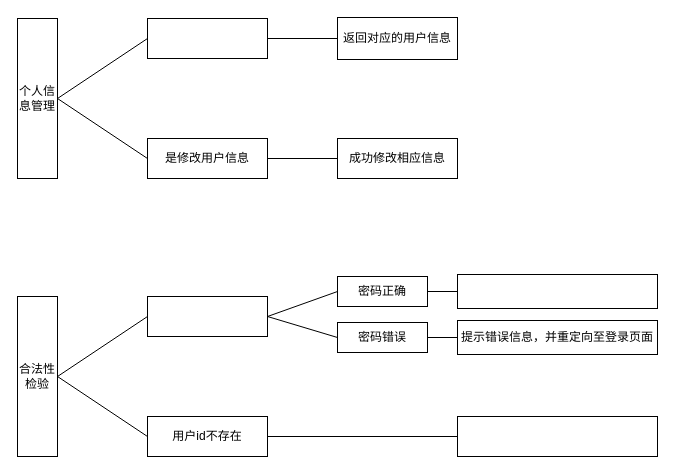
This 675x474 diagram has some shape labels left out. Each missing label, with the box of its shape:
不是修改用户信息: (146, 18, 268, 58)
成功进入系统，进入首页: (456, 274, 658, 308)
提示错误信息，并重定向至注册页面: (456, 416, 658, 456)
用户id存在: (146, 296, 268, 336)
